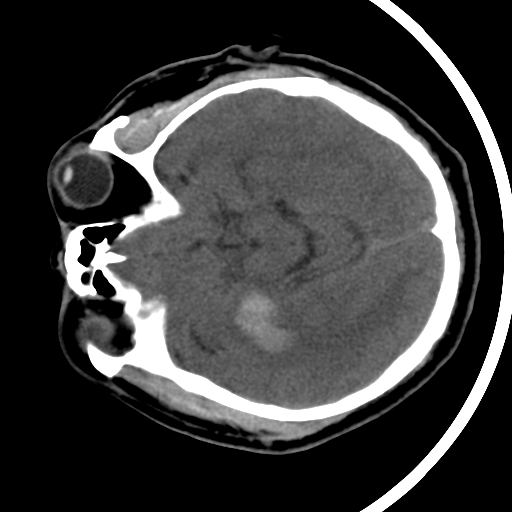a: (208, 265, 325, 373)
